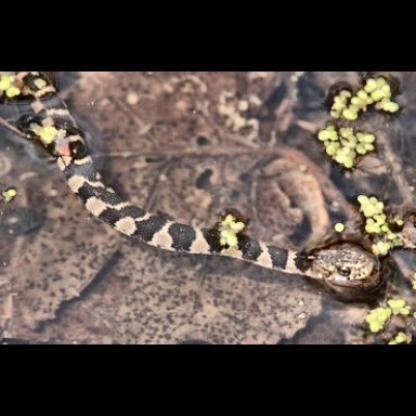Snake: (9, 107, 409, 321)
